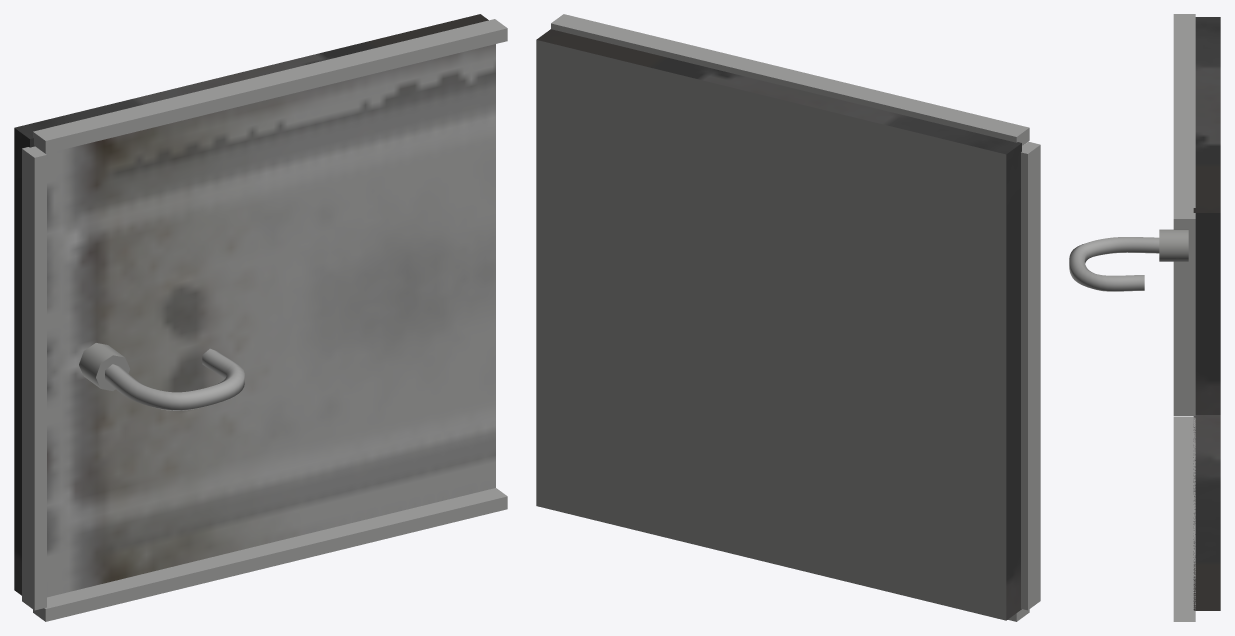
File: section-0.obj
The picture shows the model from 3 angles, left to right: view 1: azimuth 30°, elevation 25°; view 2: azimuth 150°, elevation 25°; view 3: azimuth 270°, elevation 25°; orthographic projection. The views are drawn at different scales.
Bounding box in the file's own units: 1.04 × 1.01 × 0.3344.
1 material, 1 textured.
